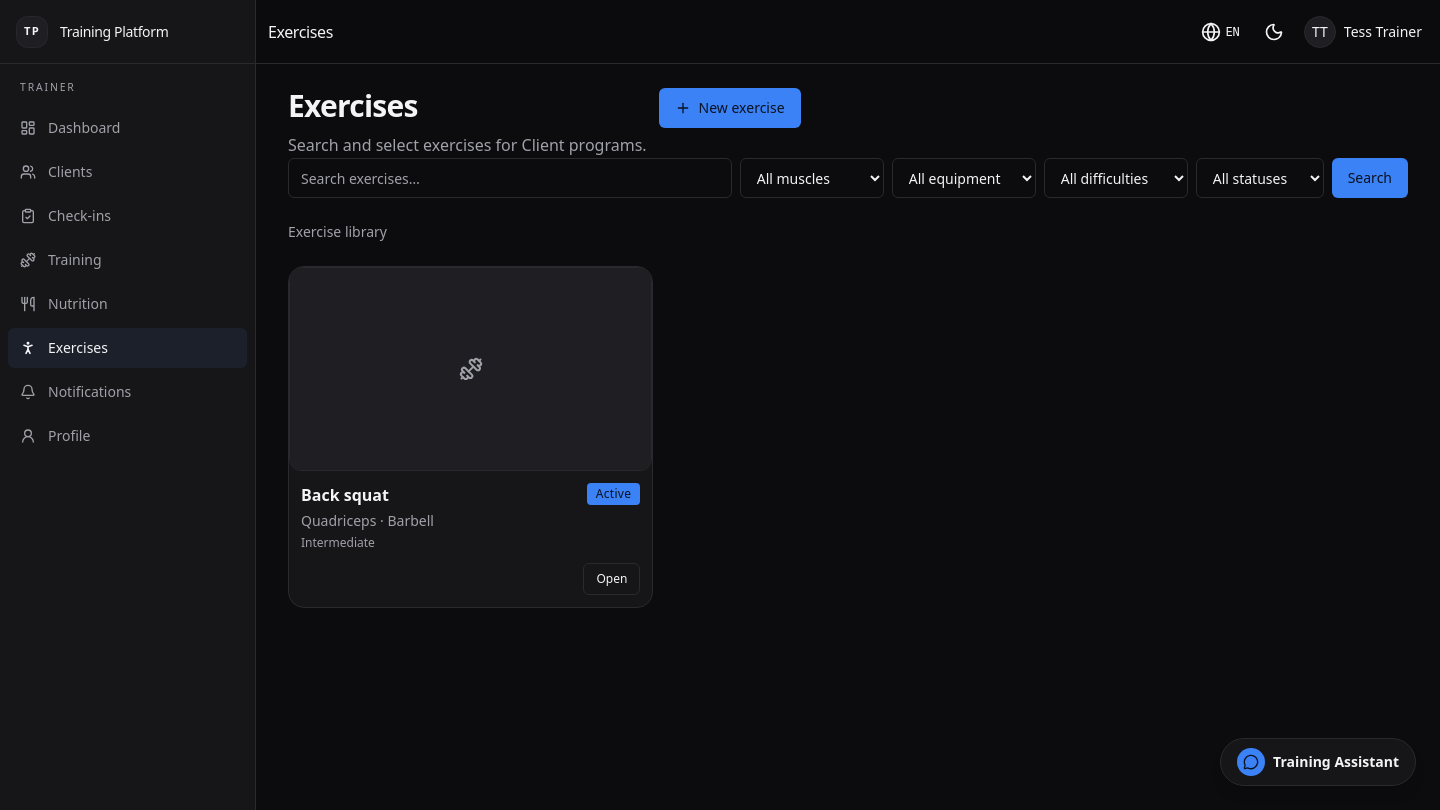
Test: Trainer workspace › presents the exercise library as compact cards and creates from a sheet
Check: the heading "Exercises" is shown, box x1=288 y1=85 x2=418 y2=126
Check: the heading "Exercise library" is shown, box x1=288 y1=222 x2=387 y2=241
Click the button "New exercise" at point(730, 108), box x1=659 y1=88 x2=801 y2=128
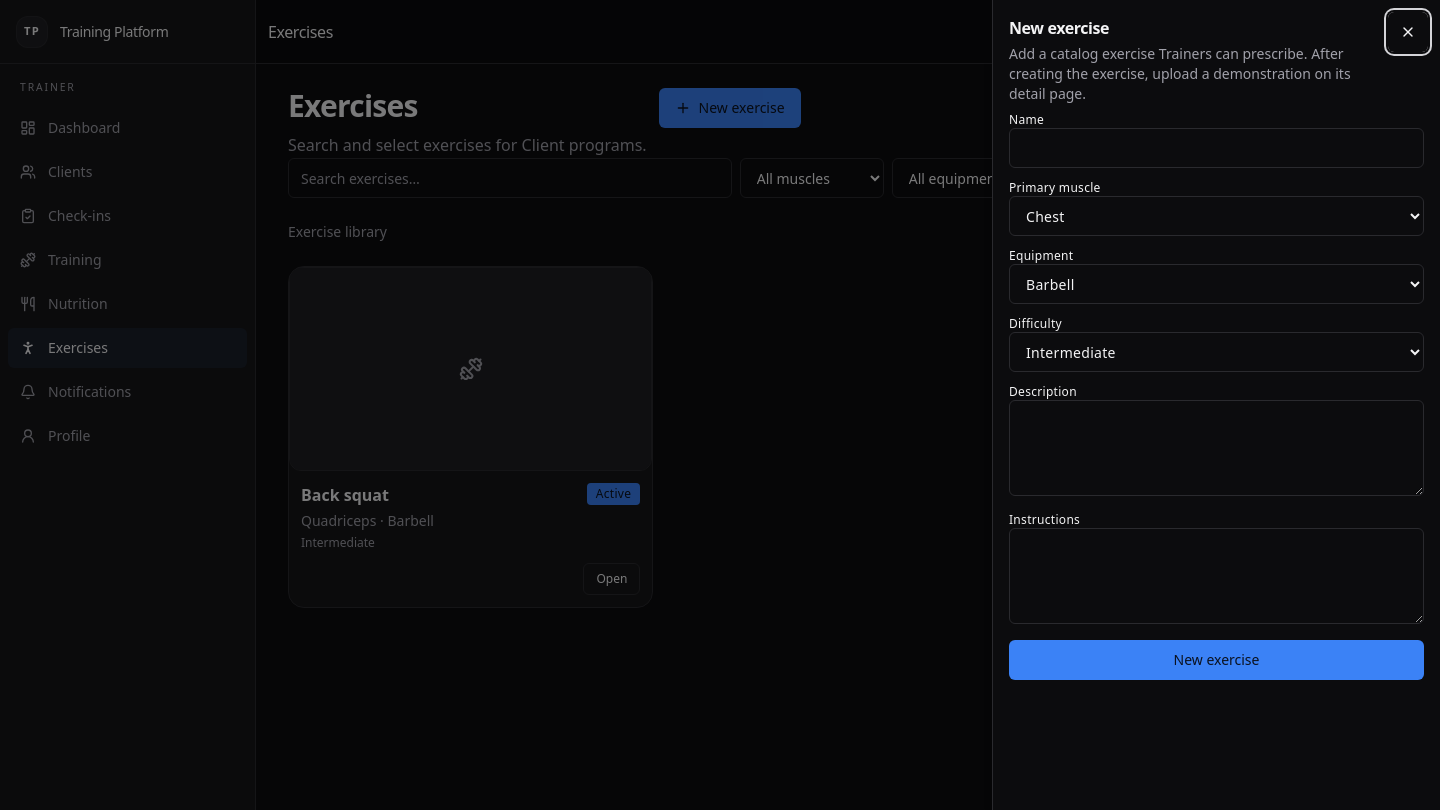
Check: the field labelled "Name" is shown, box x1=1009 y1=128 x2=1424 y2=168
Click the button named "Close" at point(1408, 32), box x1=1388 y1=12 x2=1428 y2=52
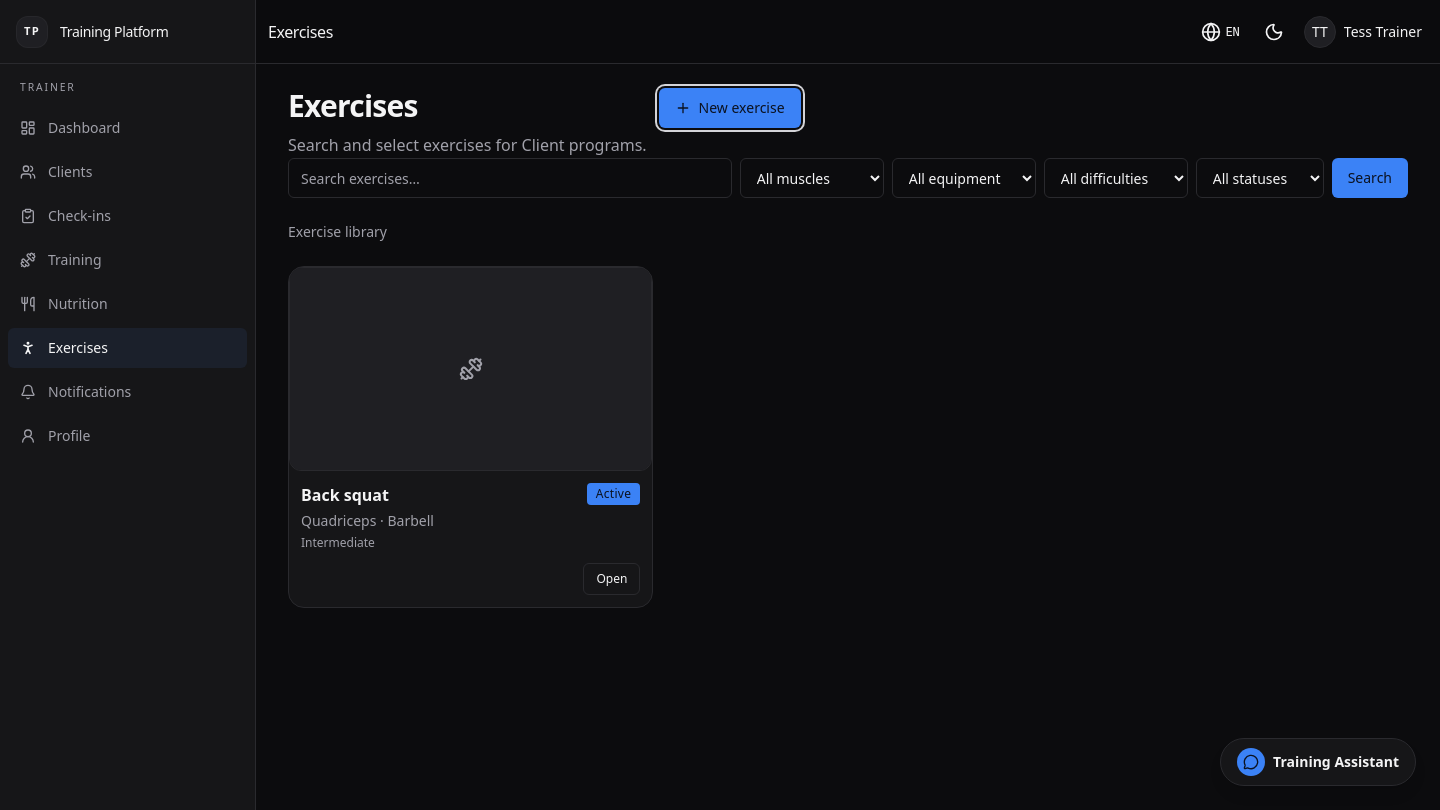
Check: the dialog is gone
Click the link "Open" at point(612, 579), box x1=583 y1=563 x2=640 y2=595
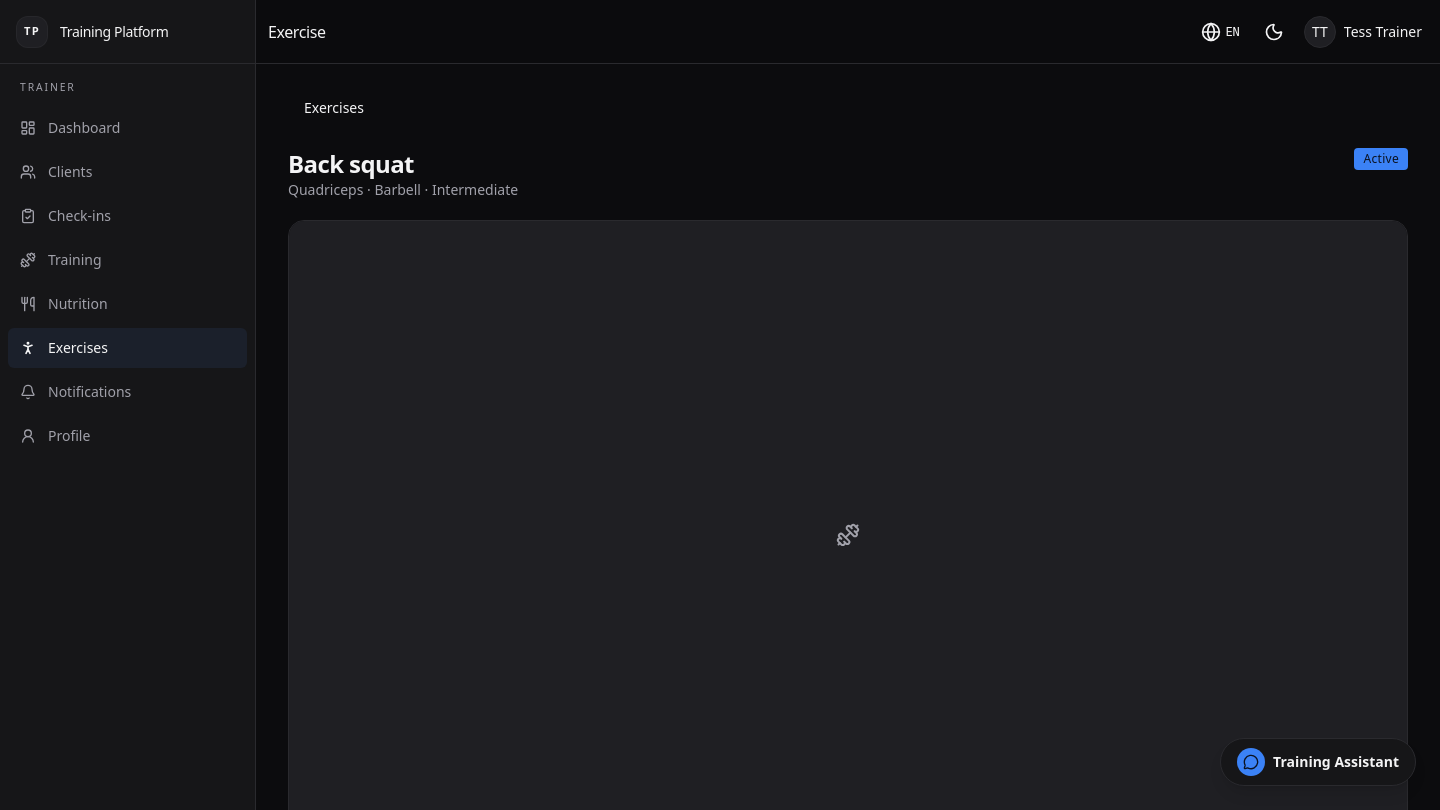
Check: the heading "Back squat" is shown, box x1=288 y1=147 x2=414 y2=180
